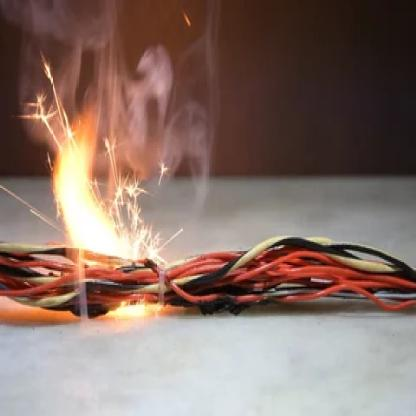fire: (48, 111, 138, 269)
smoke: (3, 0, 240, 254)
